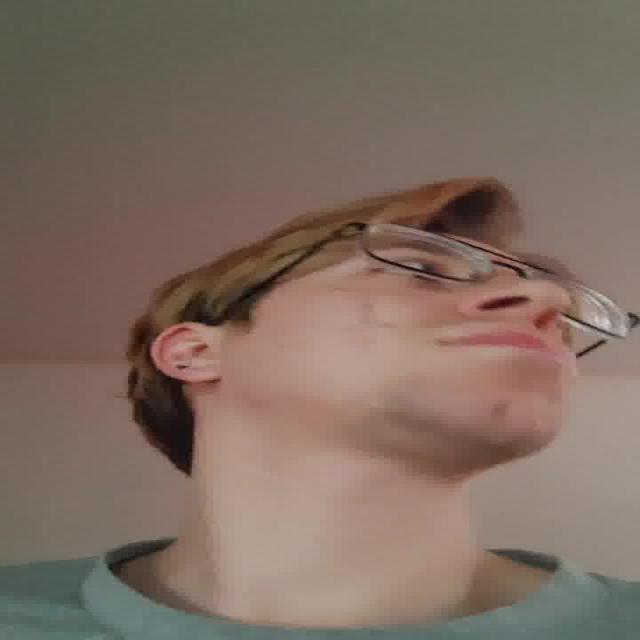earlobe: (176, 362, 224, 382)
eye: (475, 303, 558, 338), (366, 258, 442, 280)
wholeear: (151, 322, 224, 382)
